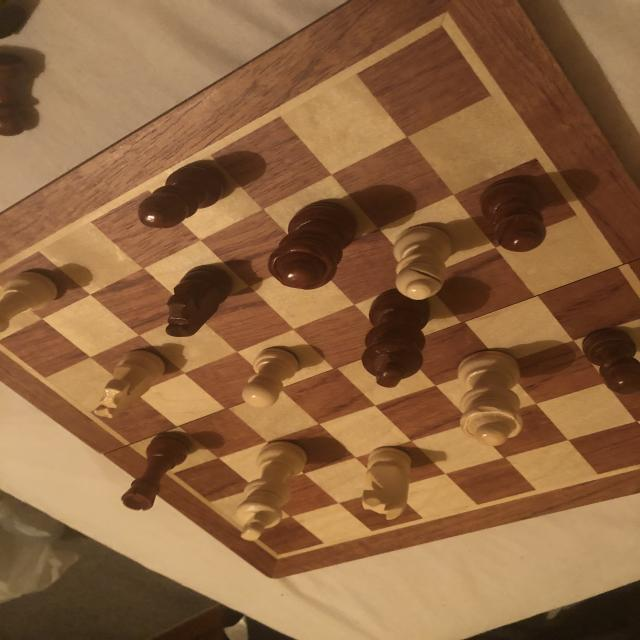black_bishop: (479, 178, 547, 255)
black_king: (360, 292, 432, 389)
black_knight: (162, 266, 232, 338)
black_pawn: (138, 160, 222, 230), (582, 328, 640, 396)
black_queen: (266, 200, 354, 292)
black_rook: (118, 432, 190, 514)
white_bishop: (390, 227, 452, 303)
white_king: (233, 441, 310, 541)
white_knight: (94, 351, 164, 416), (360, 449, 408, 521)
white_queen: (456, 352, 525, 446)
white_rook: (241, 344, 297, 410)
